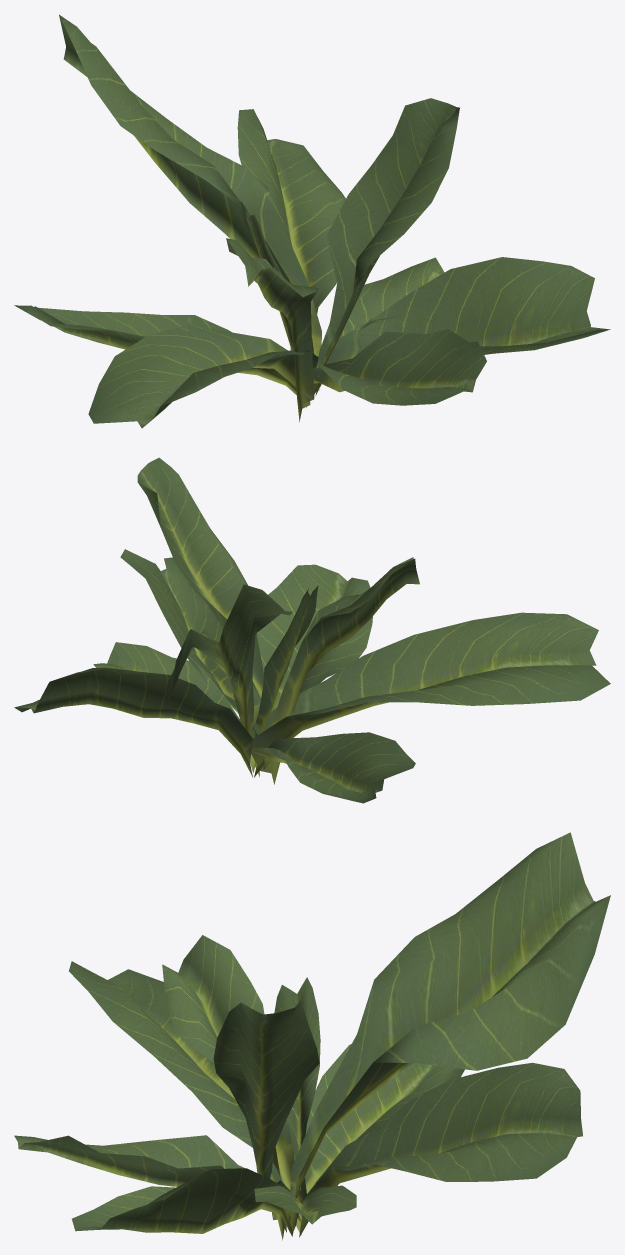
File: weed_02_002_lod1.gltf
3 views of the same model, one above another, from view 1: azimuth 30°, elevation 25°; view 2: azimuth 150°, elevation 25°; view 3: azimuth 270°, elevation 25° (orthographic). The views are drawn at different scales.
Parts seen in each view (by area): view 1: Weed 02.002; view 2: Weed 02.002; view 3: Weed 02.002.
Part boxes in pixels (x1,y1,x2,y2): Weed 02.002: (14,14,610,428); Weed 02.002: (14,457,610,803); Weed 02.002: (14,832,610,1240).
Bounding box in the file's own units: 0.2758 × 0.1749 × 0.267.
Materials: 1 (1 with a texture image).
